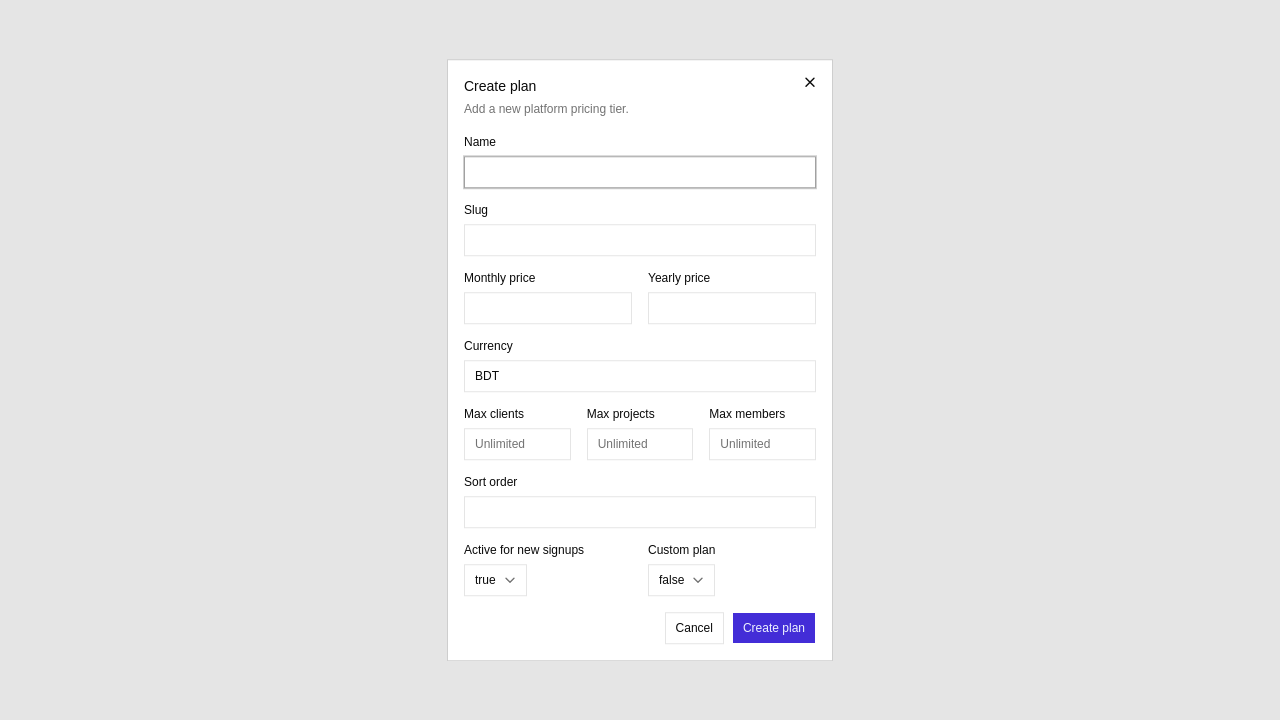
Scenario: PlanFormDialog › maps 422 validation errors to form fields on create
The image size is (1280, 720).
Type "Starter Copy" into the field labelled "Name" at (640, 172), box [464, 156, 816, 188]
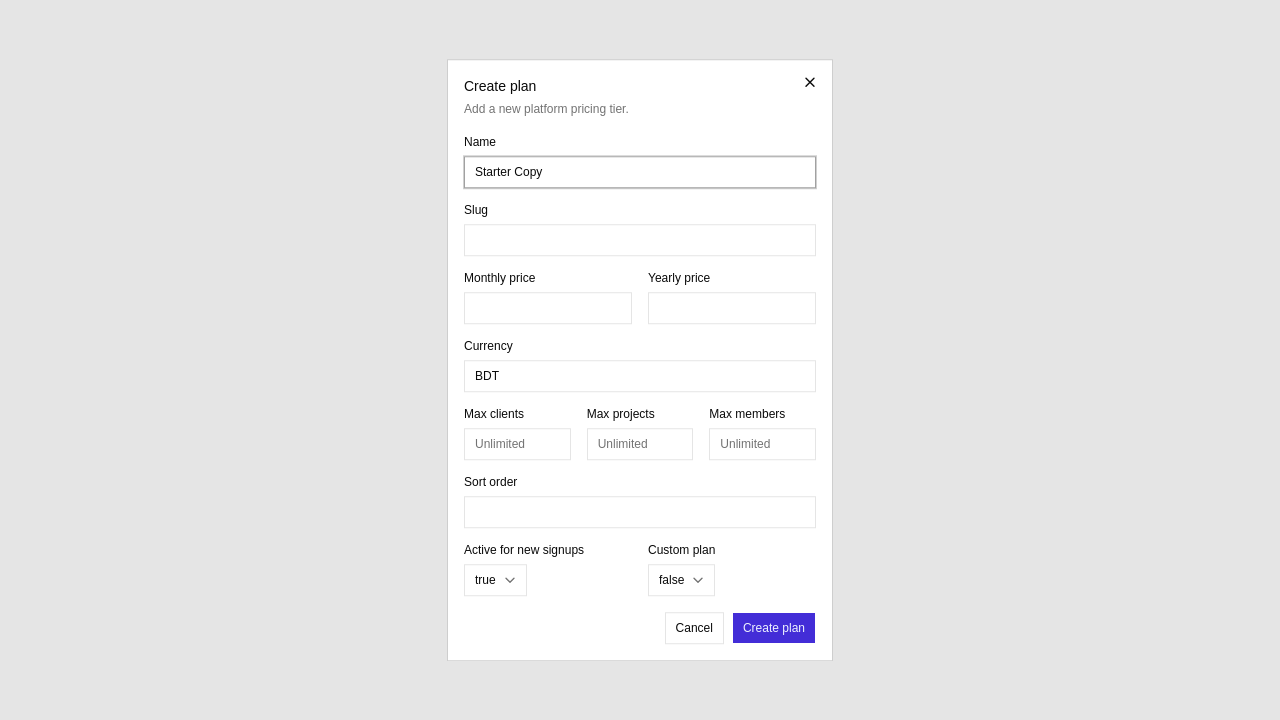
Type "starter" into the field labelled "Slug" at (640, 240), box [464, 224, 816, 256]
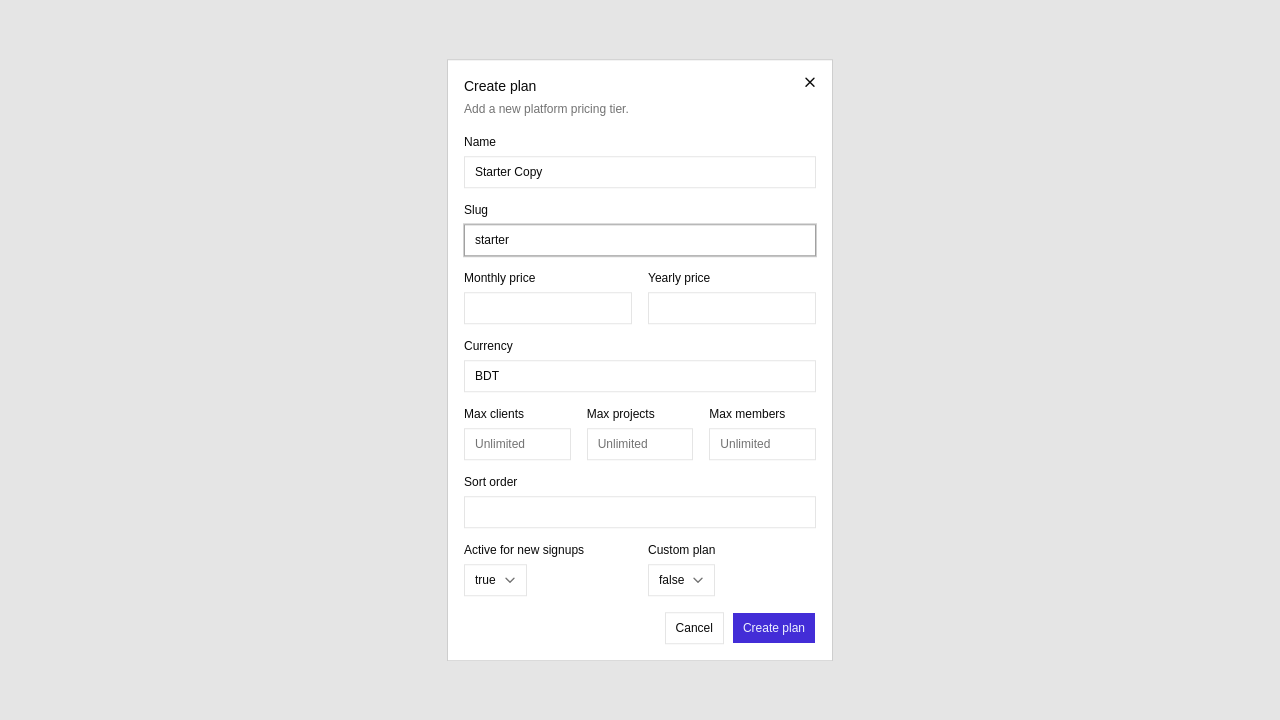
Click the button "Create plan" at (774, 628), box [732, 612, 816, 644]
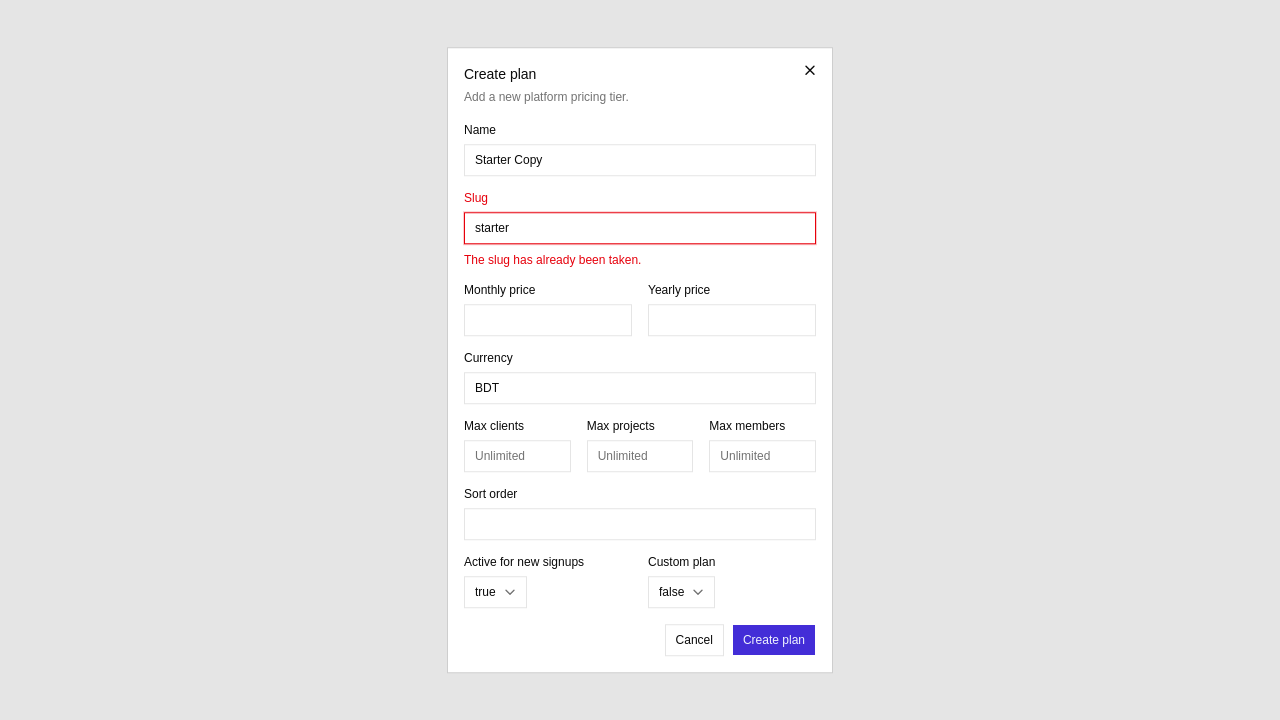
Check: the text "The slug has already been taken." is shown, box [464, 253, 642, 267]
